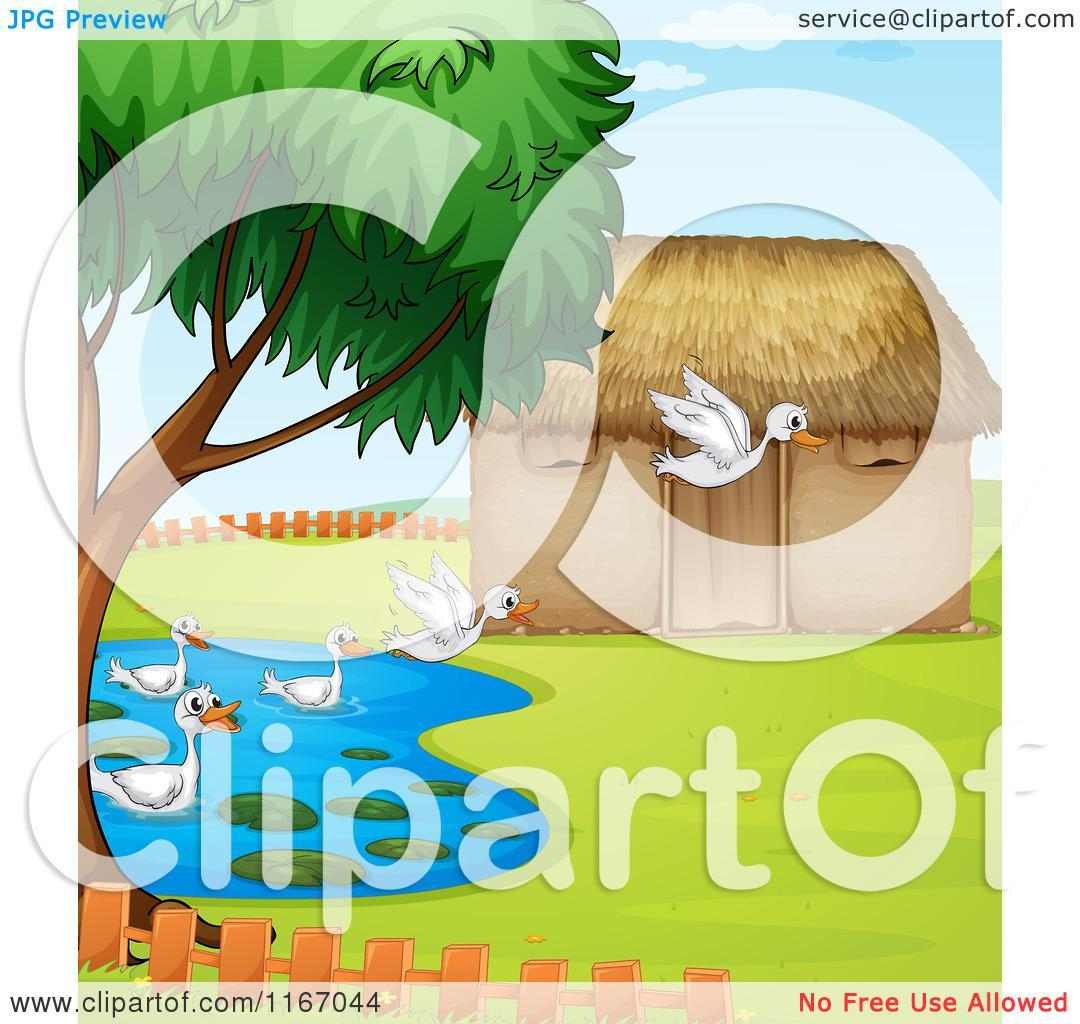bird: (643, 353, 820, 504), (371, 542, 542, 672), (93, 689, 253, 817), (249, 612, 383, 725), (105, 612, 220, 691)
